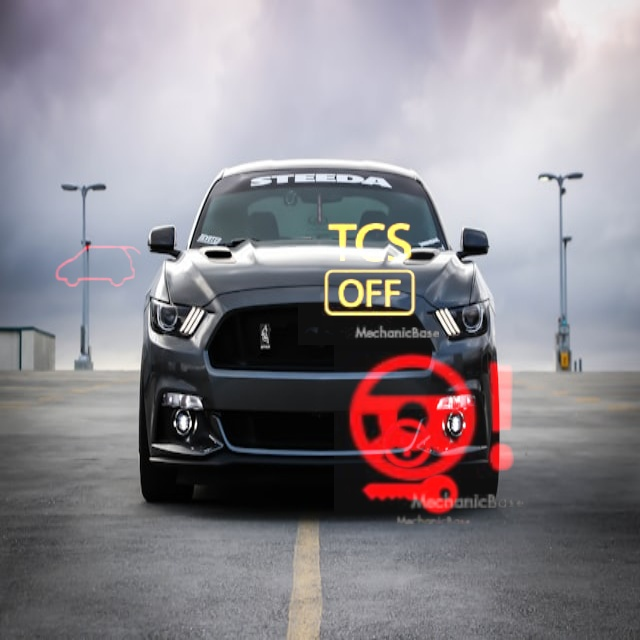symbol: (334, 320, 532, 518), (298, 198, 445, 345), (345, 401, 476, 532), (39, 208, 159, 328)
